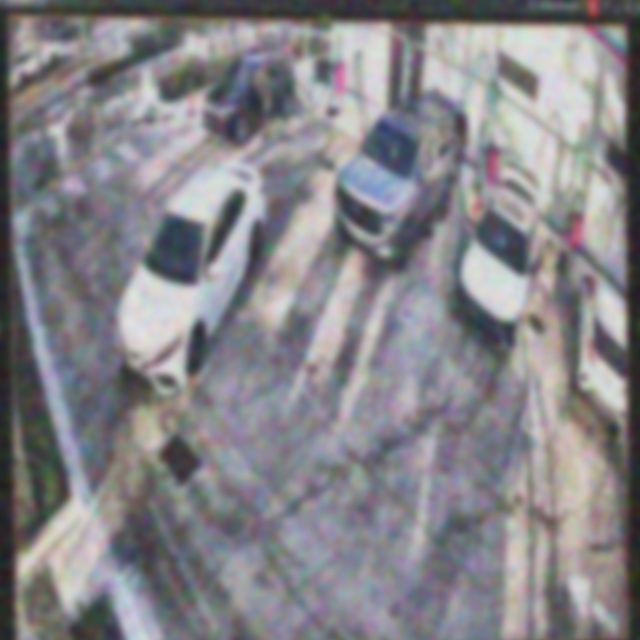Car: (112, 159, 266, 392), (330, 89, 461, 267), (458, 161, 543, 348)
